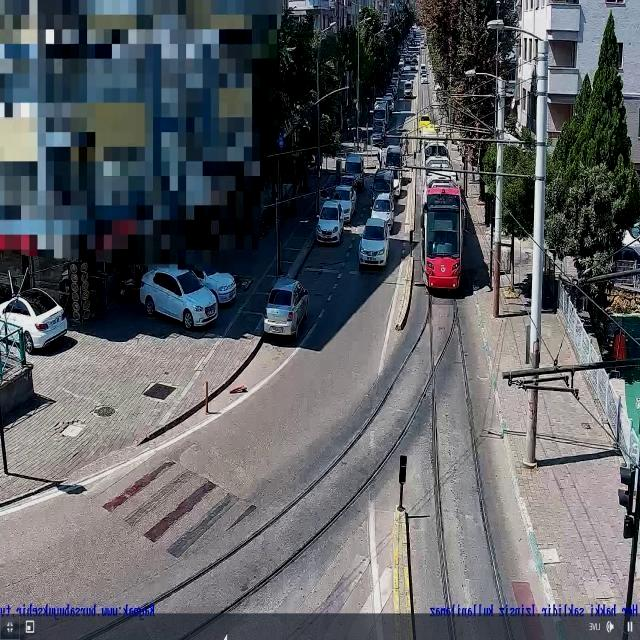Car: (138, 267, 218, 328), (0, 287, 69, 355), (264, 278, 310, 340), (193, 268, 237, 306), (359, 218, 391, 269), (314, 200, 346, 244), (326, 186, 357, 223), (368, 192, 395, 232), (384, 166, 402, 197), (419, 115, 431, 128), (420, 74, 430, 84)
Van: (370, 168, 395, 206), (344, 153, 365, 188), (369, 100, 389, 127), (402, 79, 414, 99), (419, 63, 427, 73)
